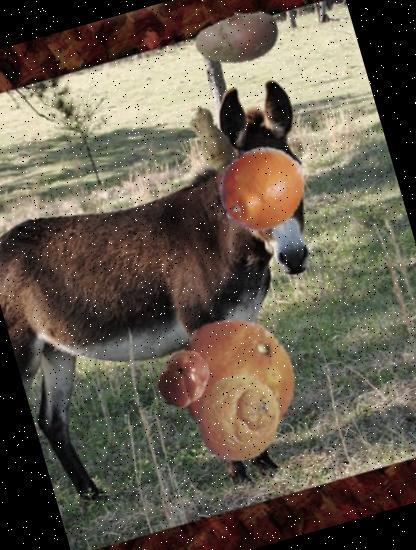Clementine: (156, 298, 314, 457)
Ginger: (166, 93, 259, 186)
Mandarine: (183, 364, 292, 473)
Potato: (184, 0, 290, 89)
Tangelo: (206, 132, 316, 242)
Tomato: (146, 342, 220, 416)
